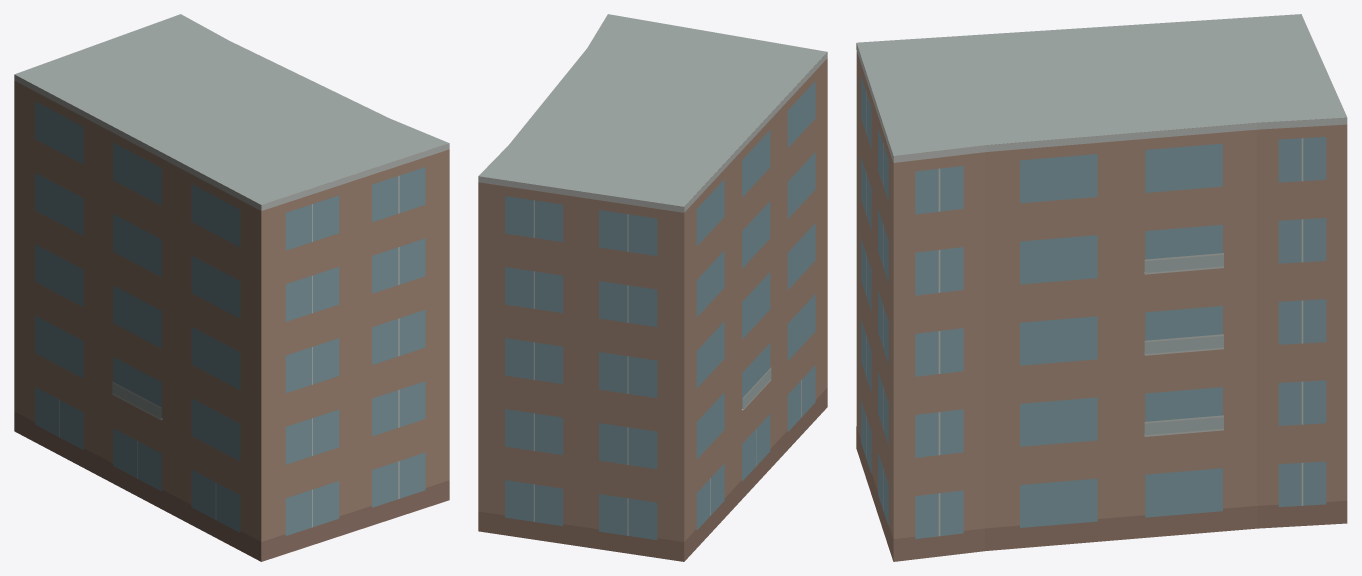
The model's file is survey-upis-32849494.glb.
3 views of the same model, side by side, from view 1: azimuth 30°, elevation 25°; view 2: azimuth 150°, elevation 25°; view 3: azimuth 270°, elevation 25° (orthographic). The views are drawn at different scales.
Visible parts, largest first — view 1: survey-upis-32849494.tmp; view 2: survey-upis-32849494.tmp; view 3: survey-upis-32849494.tmp.
Part boxes in pixels (x1,y1,x2,y2): survey-upis-32849494.tmp: [14, 14, 449, 561]; survey-upis-32849494.tmp: [478, 14, 827, 561]; survey-upis-32849494.tmp: [856, 14, 1347, 561].
Size of the model in its own units: 10.75 by 14.3 by 15.69.
